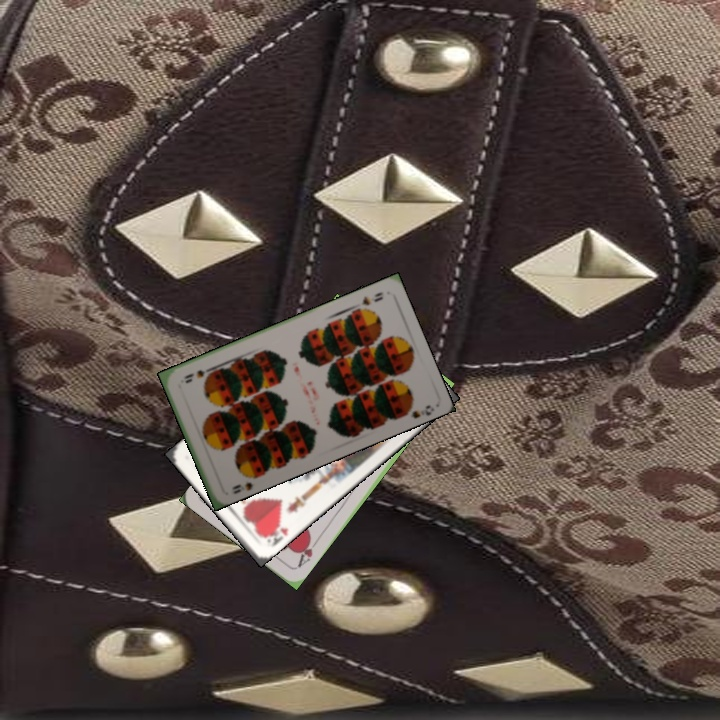HA: (293, 533, 321, 570)
HK: (260, 520, 291, 550)
S9: (228, 472, 261, 492), (357, 288, 386, 308)
